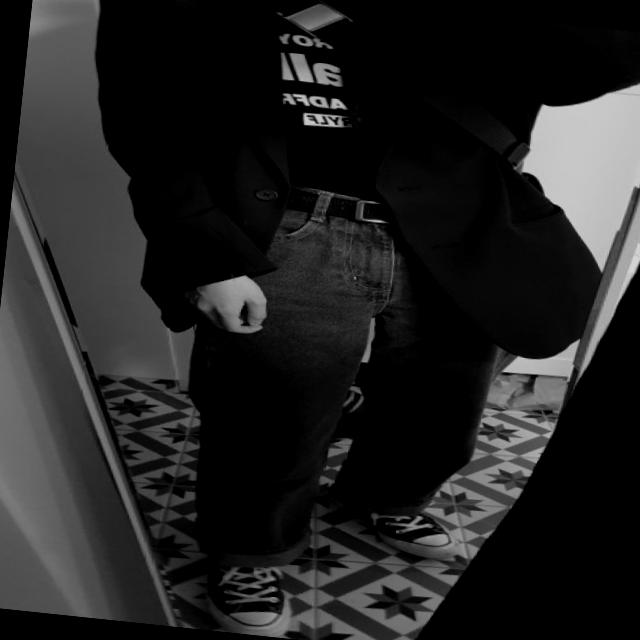blazer: (64, 0, 640, 377)
denimpants: (172, 178, 542, 600)
